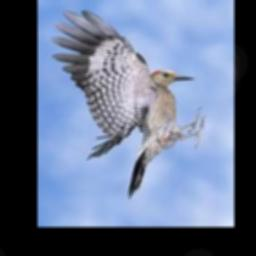Woodpecker: (51, 10, 206, 198)
